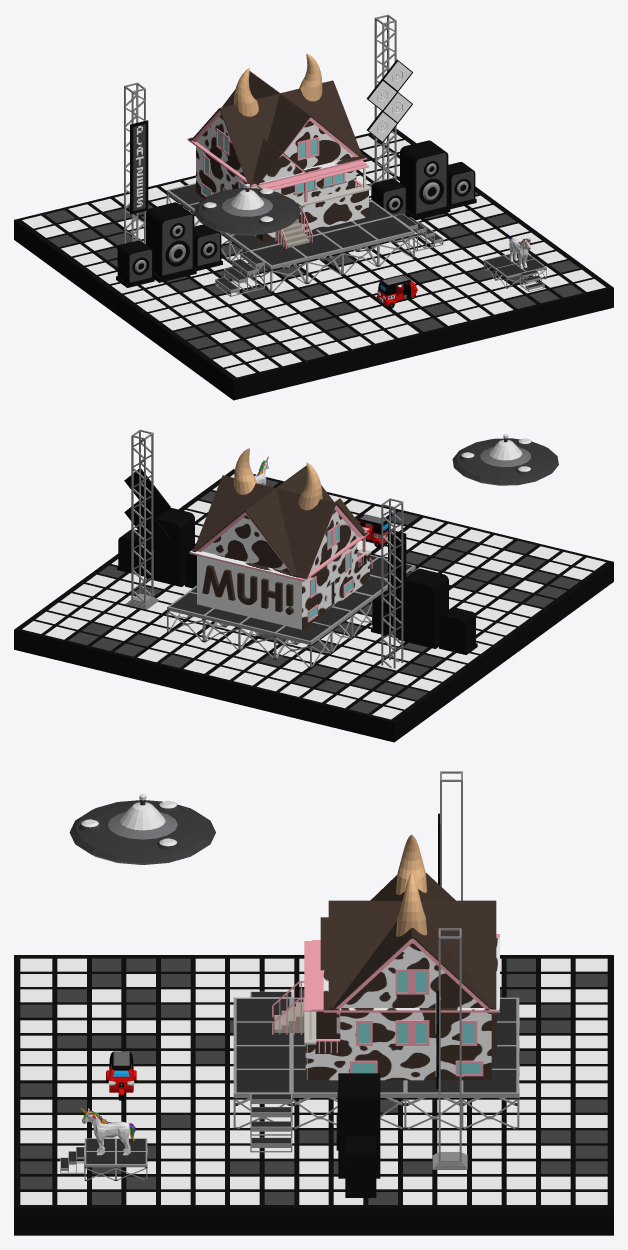
3 views of the same model, one above another, from view 1: azimuth 30°, elevation 25°; view 2: azimuth 150°, elevation 25°; view 3: azimuth 270°, elevation 25° (orthographic). The views are drawn at different scales.
Visible parts, largest first — view 1: Cube.008, Cube.1242, OBJRANDOM_UFO, VEHICLES_TUC_TUC; view 2: Cube.008, Cube.1242, OBJRANDOM_UFO, VEHICLES_TUC_TUC; view 3: Cube.008, Cube.1242, OBJRANDOM_UFO, VEHICLES_TUC_TUC, ANIMAL_UNICORNIO.
Boxes of the visible parts, bbox=[...] form: Cube.008: bbox=[14, 14, 613, 400]; Cube.1242: bbox=[187, 54, 371, 248]; OBJRANDOM_UFO: bbox=[194, 183, 300, 235]; VEHICLES_TUC_TUC: bbox=[376, 275, 417, 308]; Cube.008: bbox=[14, 429, 613, 742]; Cube.1242: bbox=[189, 448, 372, 629]; OBJRANDOM_UFO: bbox=[452, 434, 558, 485]; VEHICLES_TUC_TUC: bbox=[357, 514, 388, 547]; Cube.008: bbox=[14, 771, 613, 1235]; Cube.1242: bbox=[272, 834, 499, 1080]; OBJRANDOM_UFO: bbox=[69, 794, 215, 864]; VEHICLES_TUC_TUC: bbox=[106, 1051, 136, 1100]; ANIMAL_UNICORNIO: bbox=[80, 1108, 135, 1155].
Bounding box in the file's own units: 4000 × 1980 × 4000.
Materials: 48 (1 with a texture image).
